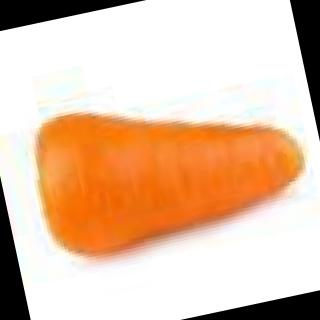Wortel: (1, 59, 320, 297)
